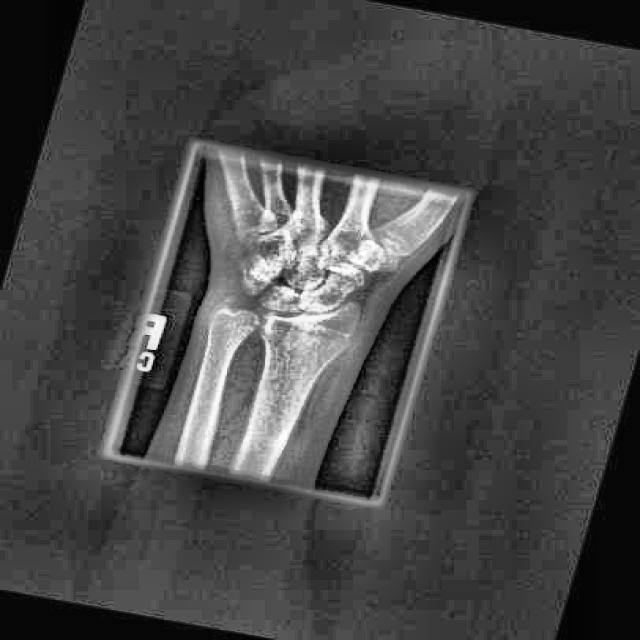fingers positive: (237, 301, 369, 357)
